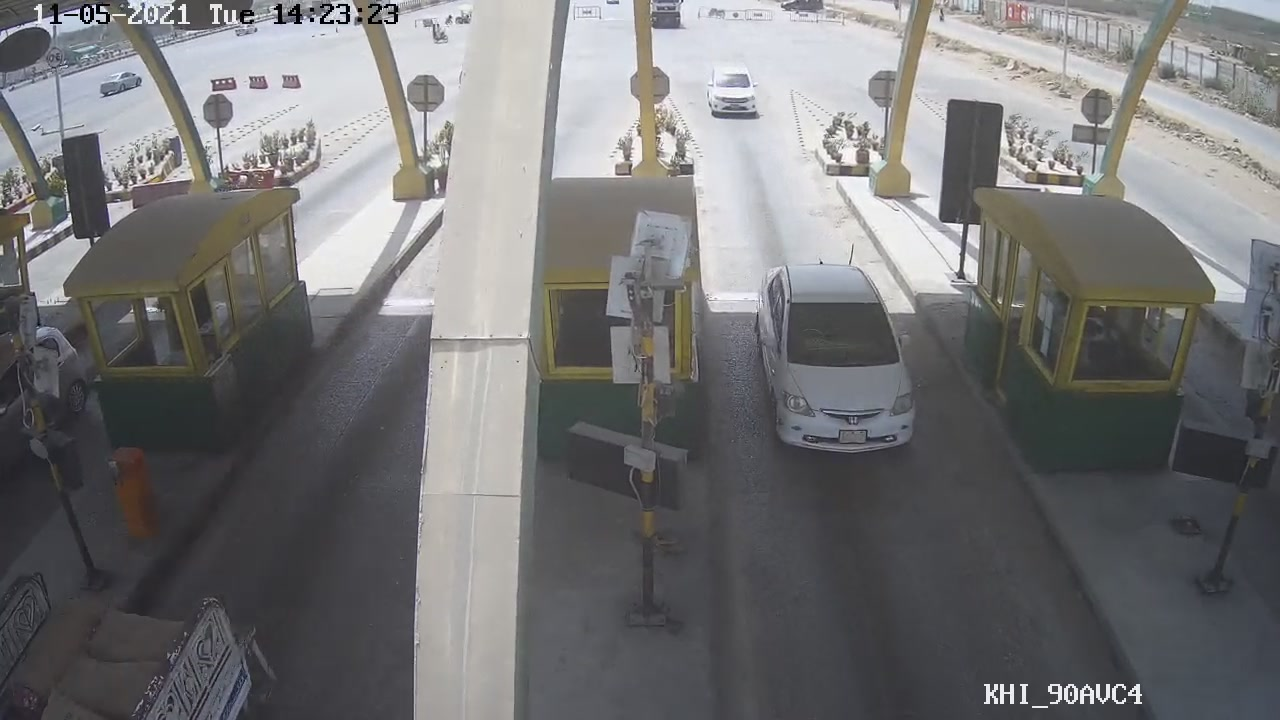F1: (743, 256, 921, 459)
